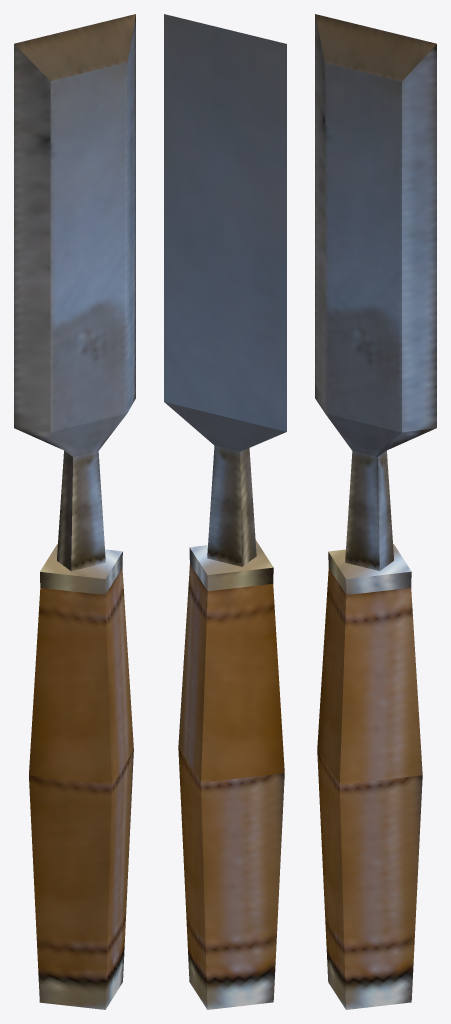
The picture shows the model from 3 angles, left to right: view 1: azimuth 30°, elevation 25°; view 2: azimuth 150°, elevation 25°; view 3: azimuth 330°, elevation 25°; orthographic projection.
Parts seen in each view (by area): view 1: Cube; view 2: Cube; view 3: Cube.
Part boxes in pixels (box(x1,y1,x2,y2)): Cube: box(14, 14, 135, 1009); Cube: box(164, 14, 286, 1009); Cube: box(315, 14, 436, 1009).
Bounding box in the file's own units: 0.2318 × 1.74 × 0.2002.
1 material, 1 textured.
